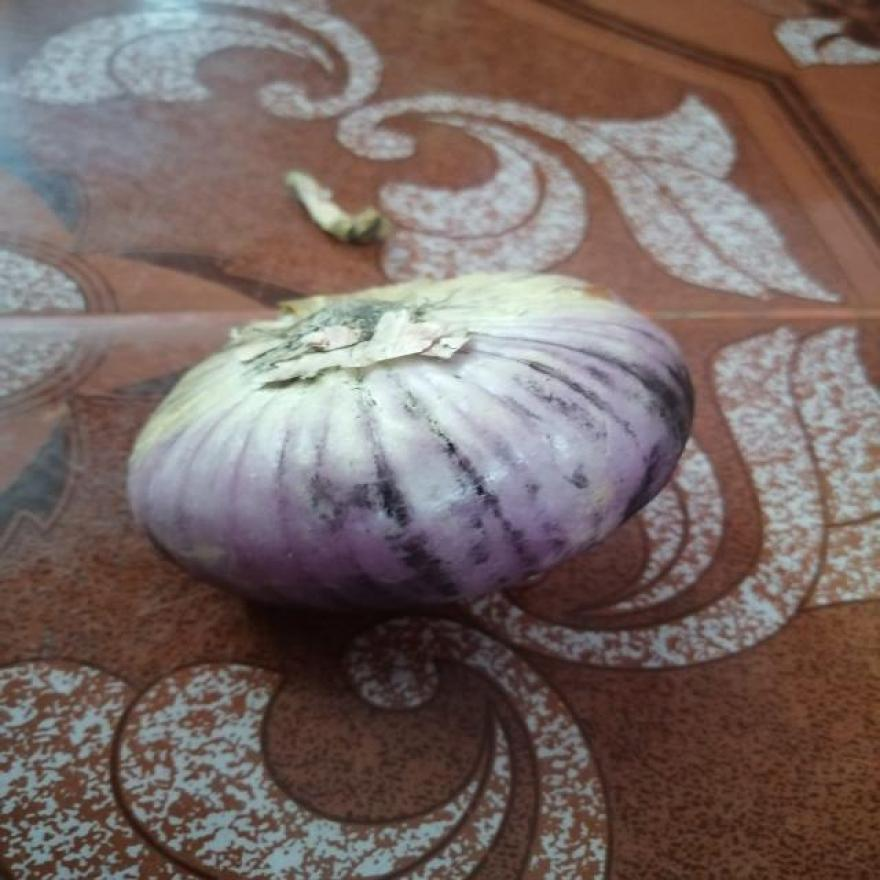Rotten: (257, 471, 633, 582)
